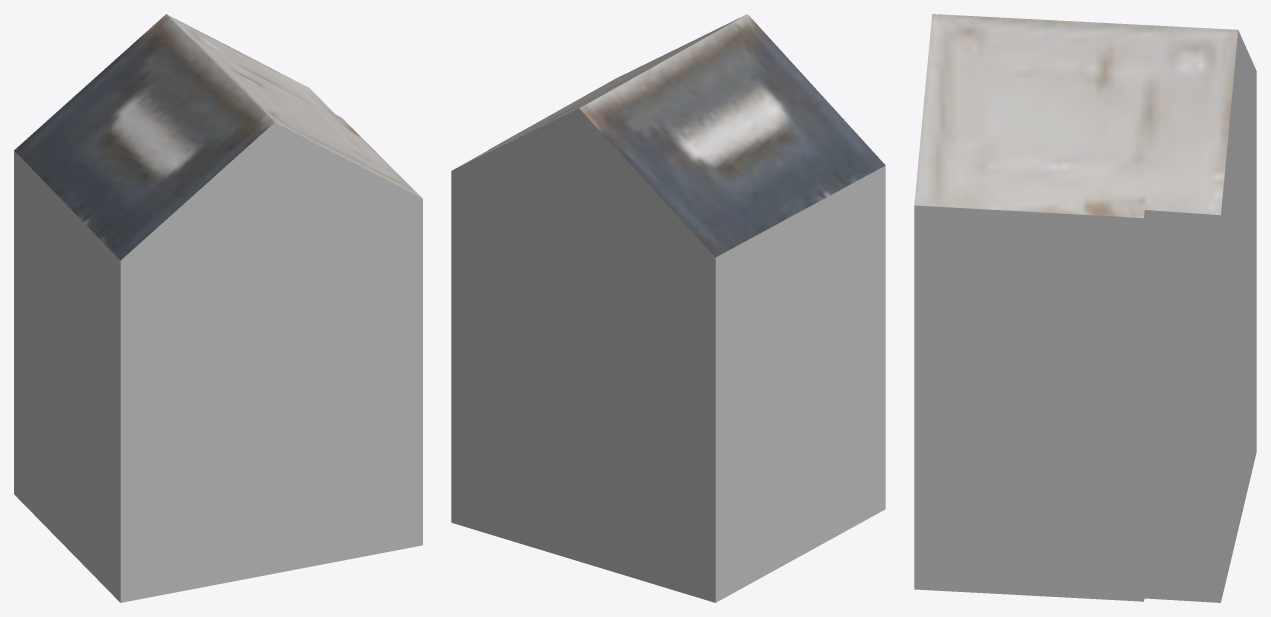
Rendered from DEBW_0010007Txh0.gltf.
3 views of the same model, side by side, from view 1: azimuth 30°, elevation 25°; view 2: azimuth 150°, elevation 25°; view 3: azimuth 270°, elevation 25° (orthographic). The views are drawn at different scales.
Visible parts, largest first — view 1: Z_UP; view 2: Z_UP; view 3: Z_UP.
Boxes of the visible parts, x1=… form: Z_UP: x1=14, y1=14, x2=422, y2=602; Z_UP: x1=451, y1=14, x2=885, y2=602; Z_UP: x1=914, y1=14, x2=1256, y2=602.
Size of the model in its own units: 14.2 by 19.7 by 12.23.
2 materials, 1 textured.
